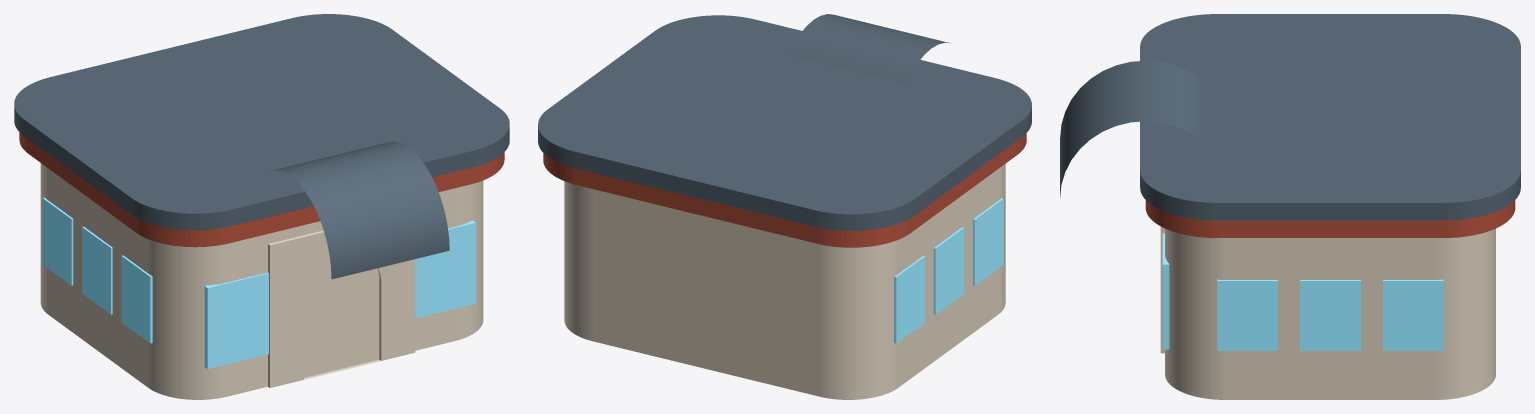
The model's file is round-shop.gltf.
The picture shows the model from 3 angles, left to right: view 1: azimuth 30°, elevation 25°; view 2: azimuth 150°, elevation 25°; view 3: azimuth 270°, elevation 25°; orthographic projection. The views are drawn at different scales.
Parts seen in each view (by area): view 1: round-shop; view 2: round-shop; view 3: round-shop.
Boxes of the visible parts, <box> form: round-shop: <box>14,14,509,399</box>; round-shop: <box>538,14,1031,399</box>; round-shop: <box>1060,14,1520,399</box>.
Bounding box in the file's own units: 8.1 × 4.5 × 8.35.
